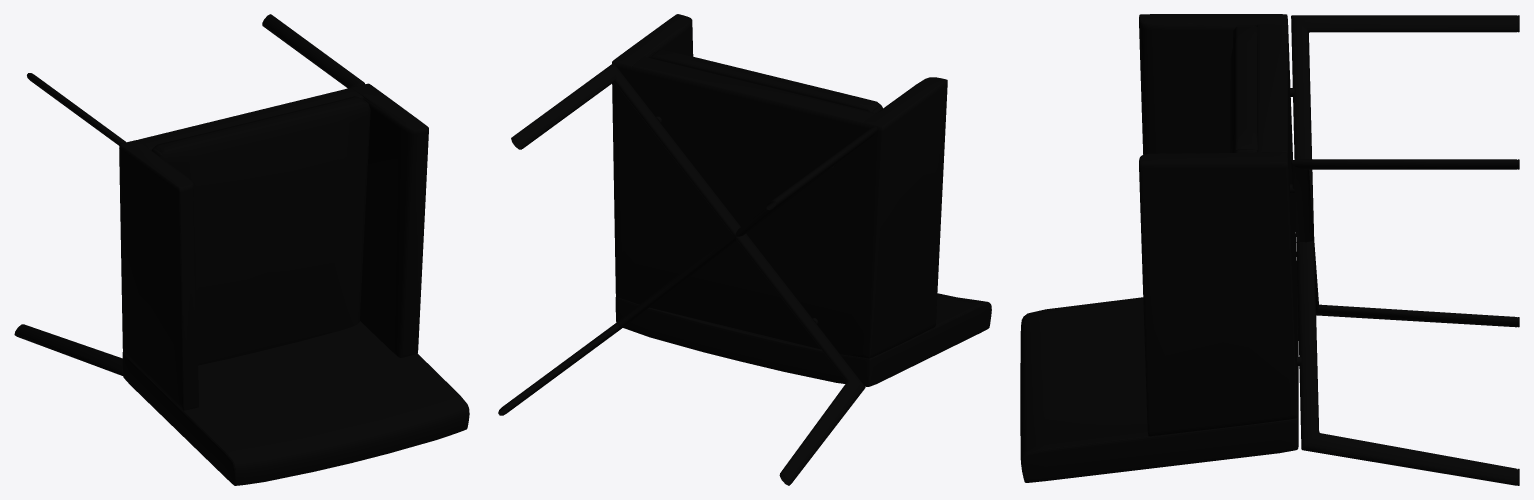
3 views of the same model, side by side, from view 1: azimuth 30°, elevation 25°; view 2: azimuth 150°, elevation 25°; view 3: azimuth 270°, elevation 25° (orthographic). The views are drawn at different scales.
Bounding box in the file's own units: 0.6248 × 0.6058 × 0.8182.
